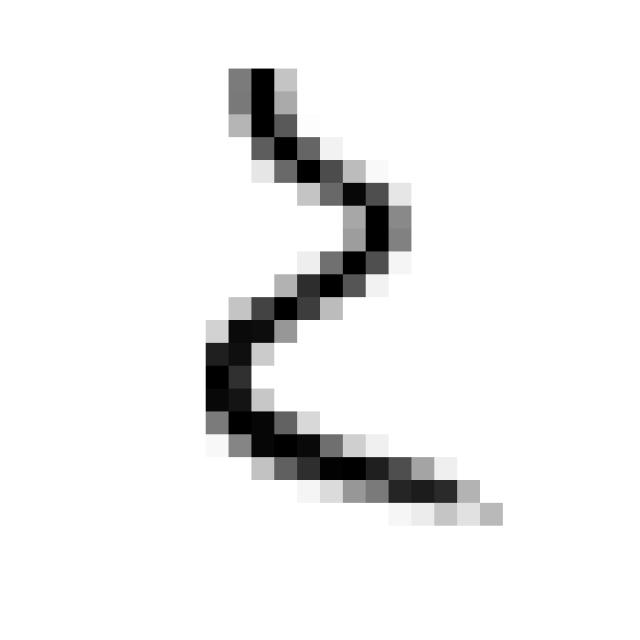4 -four-: (169, 48, 516, 542)
